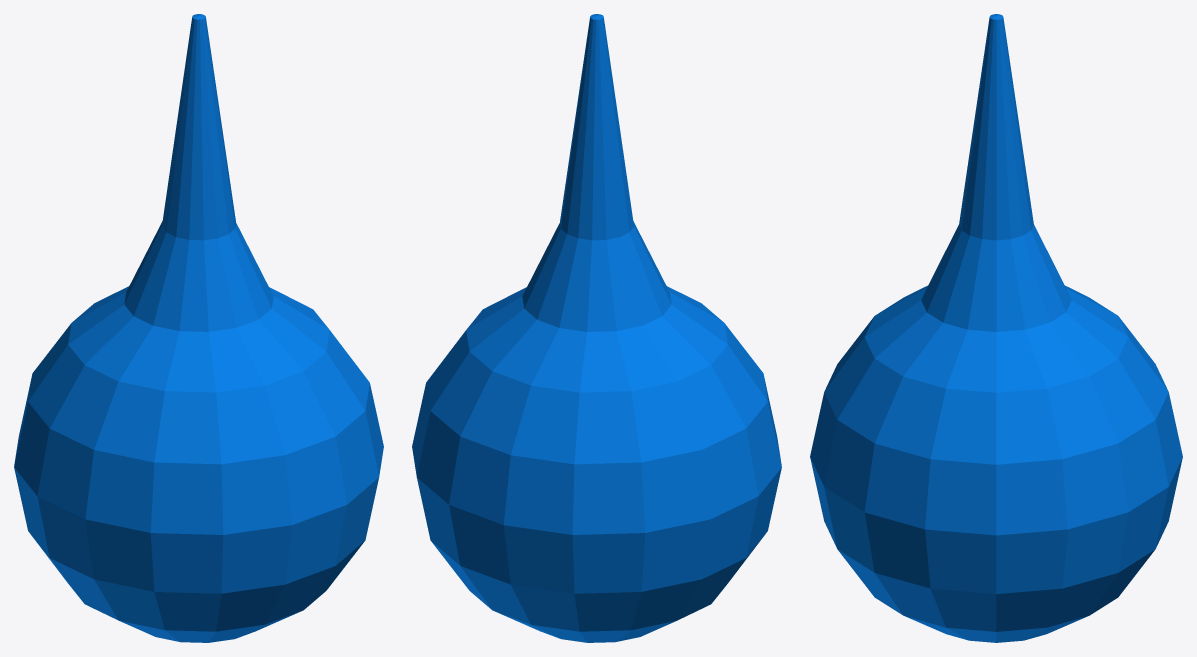
File: enema.fbx
3 views of the same model, side by side, from view 1: azimuth 30°, elevation 25°; view 2: azimuth 150°, elevation 25°; view 3: azimuth 270°, elevation 25° (orthographic).
Parts seen in each view (by area): view 1: Sphere; view 2: Sphere; view 3: Sphere.
Boxes of the visible parts, x1=… form: Sphere: x1=14, y1=14, x2=383, y2=642; Sphere: x1=412, y1=14, x2=781, y2=642; Sphere: x1=810, y1=14, x2=1182, y2=642.
Bounding box in the file's own units: 200 × 361 × 200.
